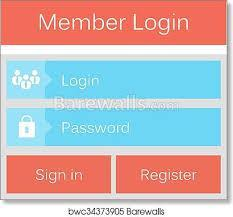button: (116, 157, 223, 195), (8, 156, 111, 194)
icon: (6, 61, 44, 99), (8, 109, 46, 147)
input: (46, 61, 222, 100), (46, 110, 221, 147)
label: (39, 10, 192, 37)
